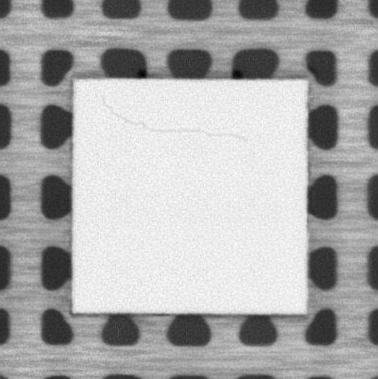DIE_CRACK: (99, 94, 251, 143)
